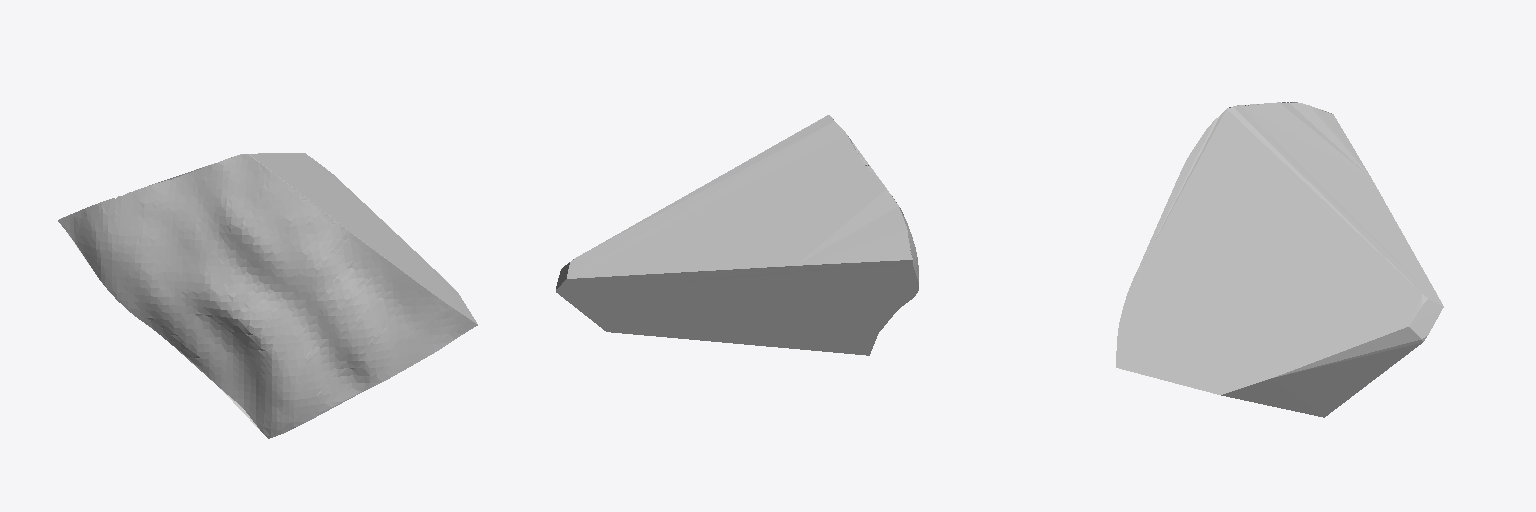
The model's file is low_cell_042.obj.
The picture shows the model from 3 angles: view 1: azimuth 30°, elevation 25°; view 2: azimuth 150°, elevation 25°; view 3: azimuth 270°, elevation 25°; orthographic projection.
Parts seen in each view (by area): view 1: low_cell.042_low_cell.041; view 2: low_cell.042_low_cell.041; view 3: low_cell.042_low_cell.041.
Part boxes in pixels (x1,y1,x2,y2): low_cell.042_low_cell.041: (58, 153, 477, 438); low_cell.042_low_cell.041: (556, 115, 918, 355); low_cell.042_low_cell.041: (1116, 102, 1443, 417).
Size of the model in its own units: 0.9519 by 0.691 by 0.7876.